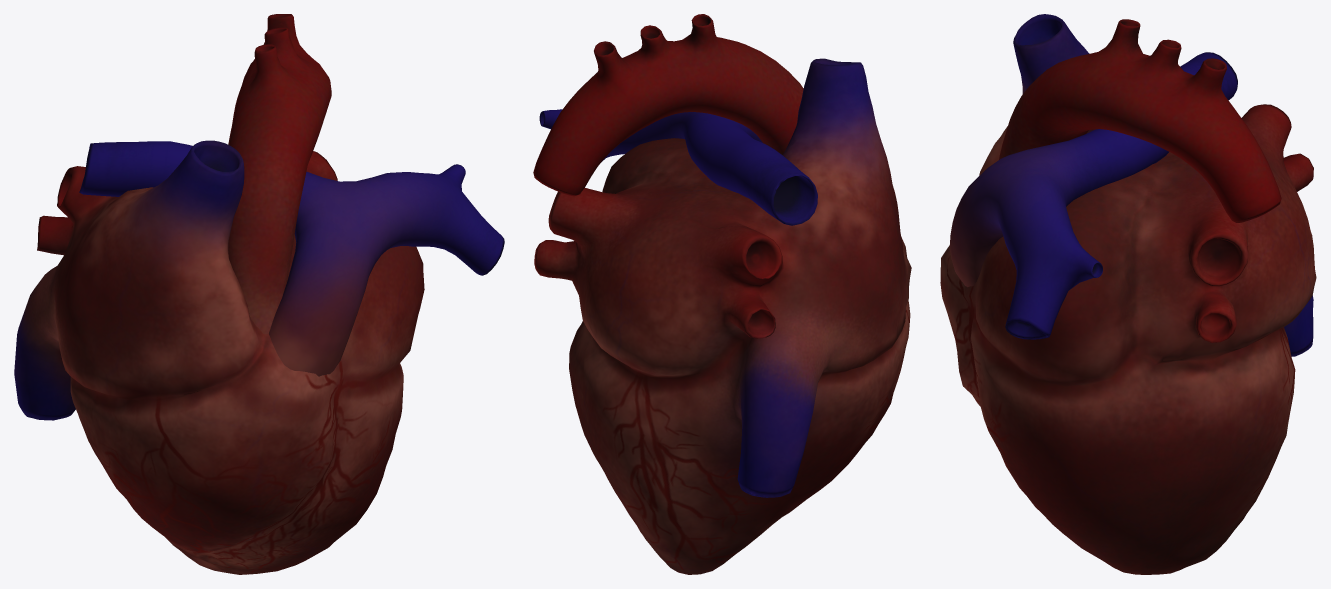
File: corazon.glb
The picture shows the model from 3 angles, left to right: view 1: azimuth 30°, elevation 25°; view 2: azimuth 150°, elevation 25°; view 3: azimuth 270°, elevation 25°; orthographic projection. The views are drawn at different scales.
Parts seen in each view (by area): view 1: website; view 2: website; view 3: website.
Part boxes in pixels (box(x1,y1,x2,y2)): website: box(14, 14, 504, 574); website: box(533, 14, 911, 574); website: box(940, 14, 1316, 574).
Size of the model in its own units: 14.22 by 19 by 11.75.
1 material, 1 textured.
